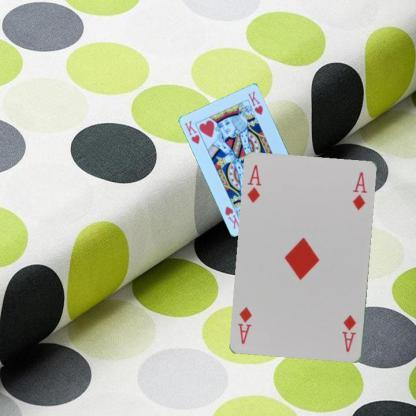Ad: (340, 312, 358, 354), (245, 162, 263, 204)
Kh: (182, 118, 201, 146)
